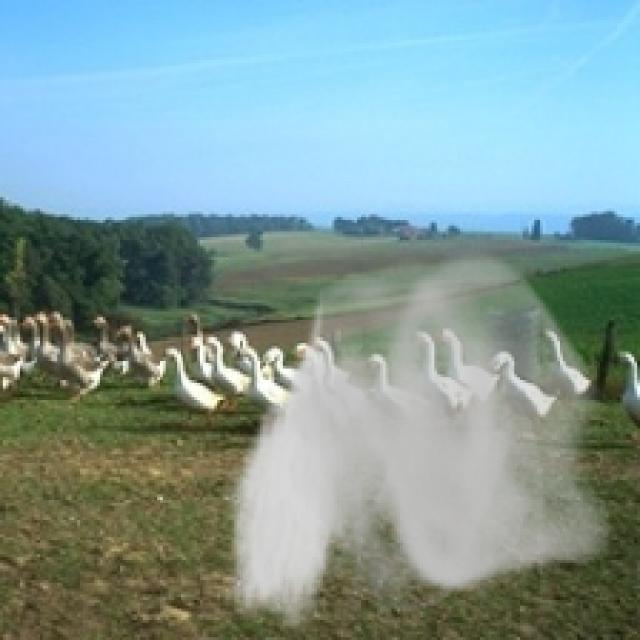Smoke: (223, 240, 612, 637)
